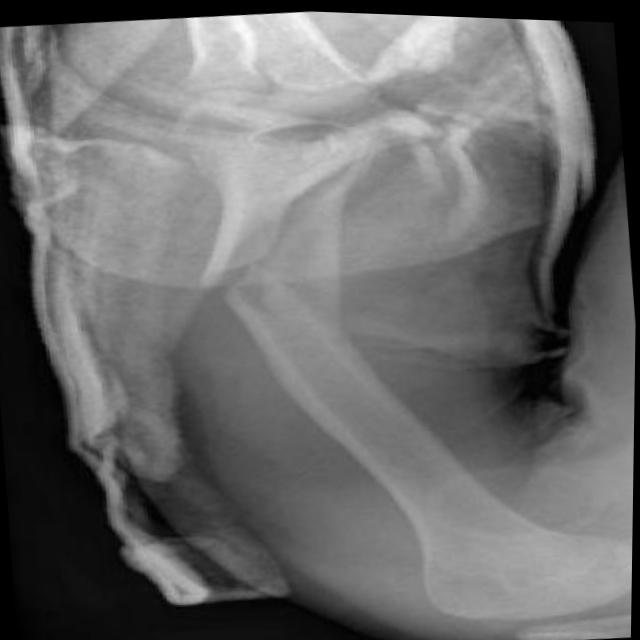fracture: (169, 237, 335, 334)
